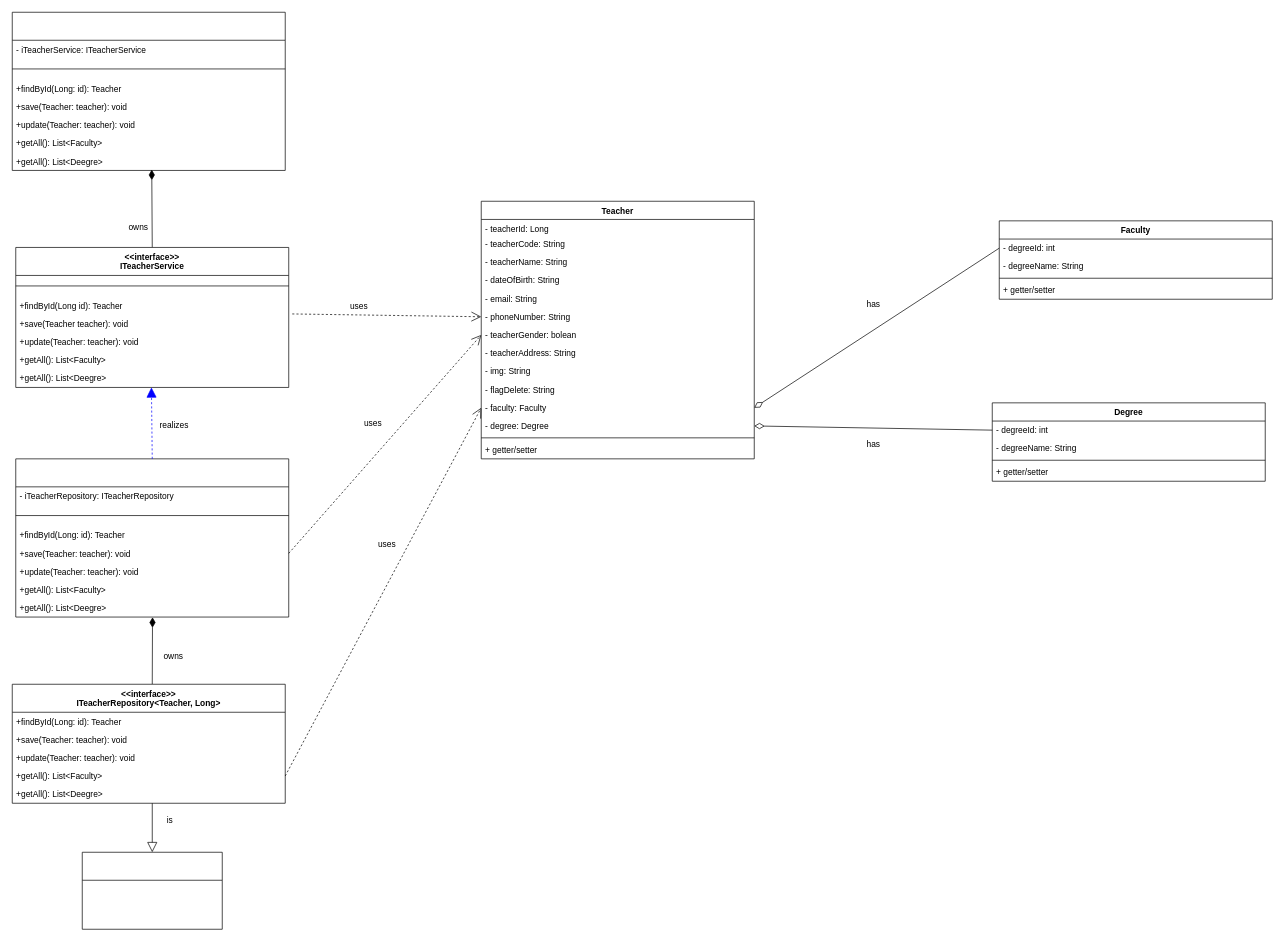
The diagram is 1285 pixels wide and 942 high, and some of its shapes have lost their labels. Each missing label, with the box of its shape:
<<interface>> JpaRepository: (82, 852, 222, 929)
TeacherRestController: (12, 12, 285, 170)
TeacherServiceImpl: (15, 458, 289, 617)
